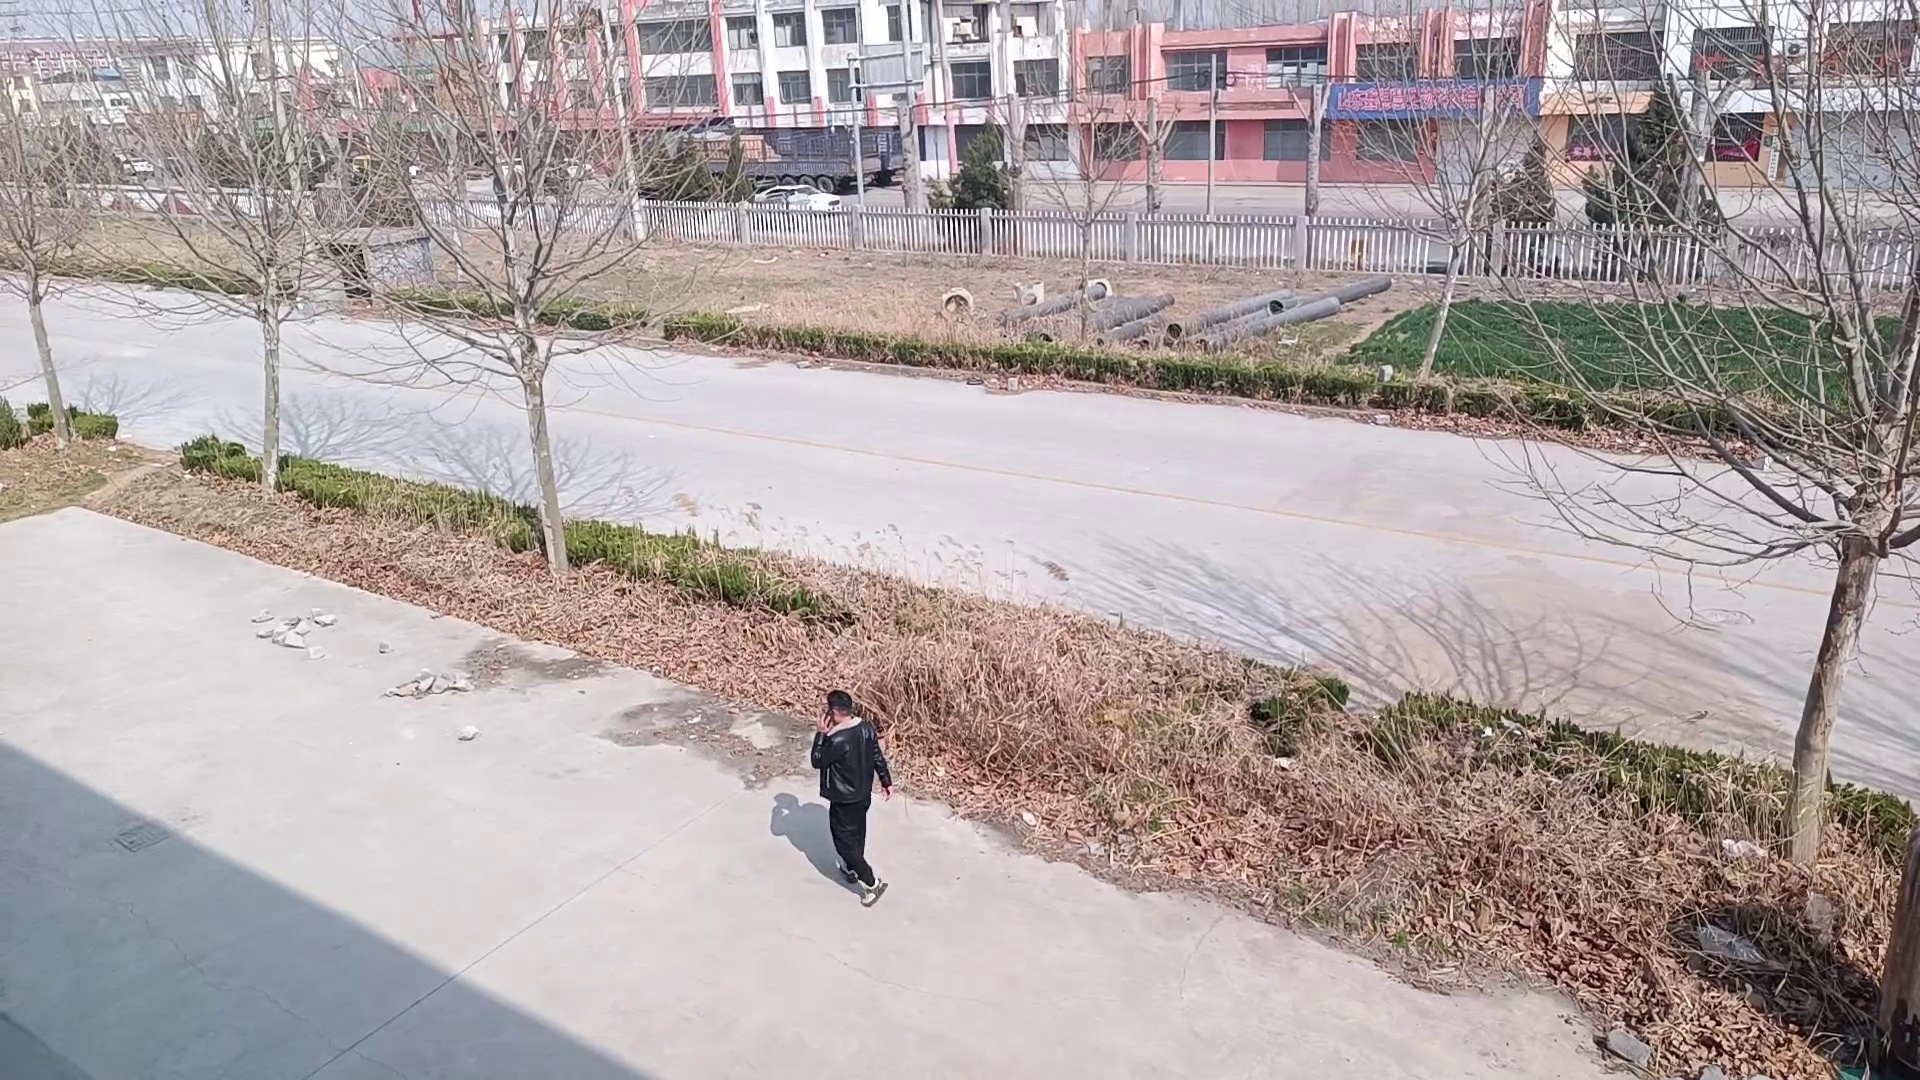phone: (812, 683, 862, 735)
